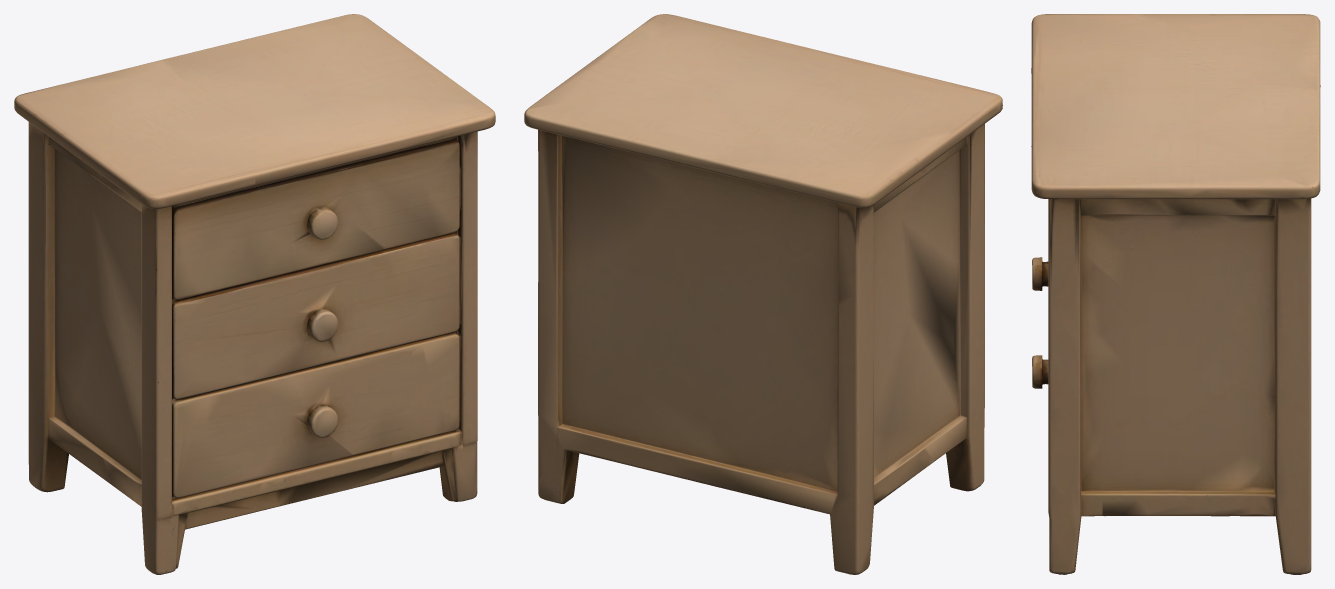
Rendered from dresser.glb.
The picture shows the model from 3 angles, left to right: view 1: azimuth 30°, elevation 25°; view 2: azimuth 150°, elevation 25°; view 3: azimuth 270°, elevation 25°; orthographic projection. The views are drawn at different scales.
Parts seen in each view (by area): view 1: node_0; view 2: node_0; view 3: node_0.
Part boxes in pixels (x1,y1,x2,y2): node_0: (14, 14, 495, 574); node_0: (524, 14, 1002, 574); node_0: (1031, 14, 1320, 574).
Bounding box in the file's own units: 0.7555 × 0.8015 × 0.5287.
Materials: 1 (1 with a texture image).
